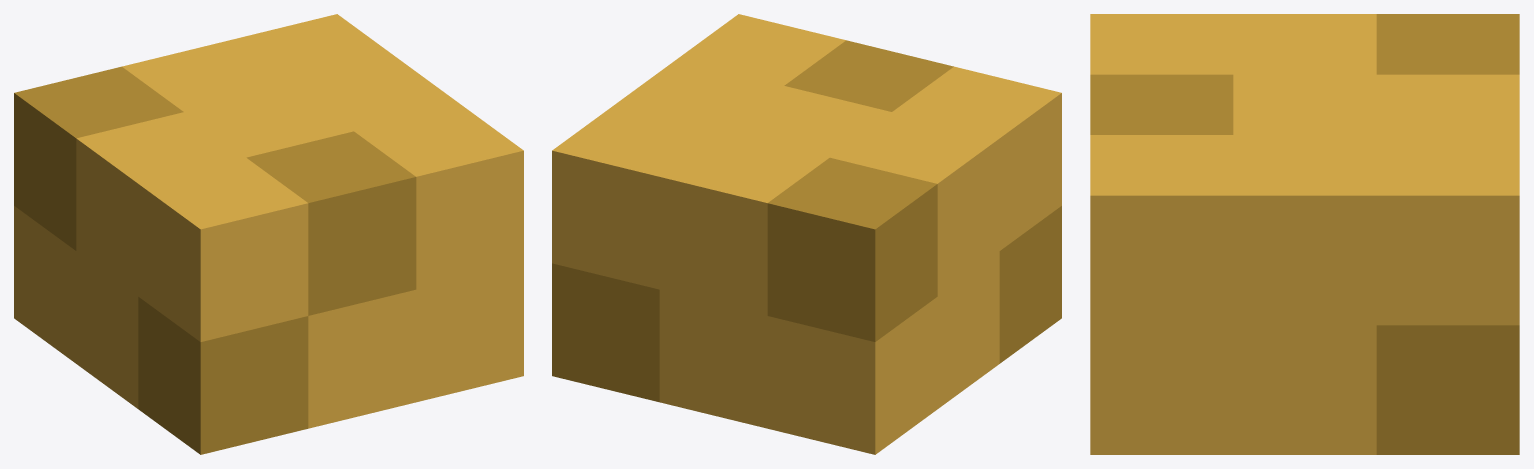
File: tavern-6-cheese.obj
3 views of the same model, side by side, from view 1: azimuth 30°, elevation 25°; view 2: azimuth 150°, elevation 25°; view 3: azimuth 270°, elevation 25° (orthographic). The views are drawn at different scales.
Visible parts, largest first — view 1: cheese; view 2: cheese; view 3: cheese.
Boxes of the visible parts, x1,y1,x2,y2 form: cheese: (14,14,523,454); cheese: (552,14,1061,454); cheese: (1090,14,1519,454).
Size of the model in its own units: 0.3 by 0.2 by 0.3.
Materials: 1 (1 with a texture image).
